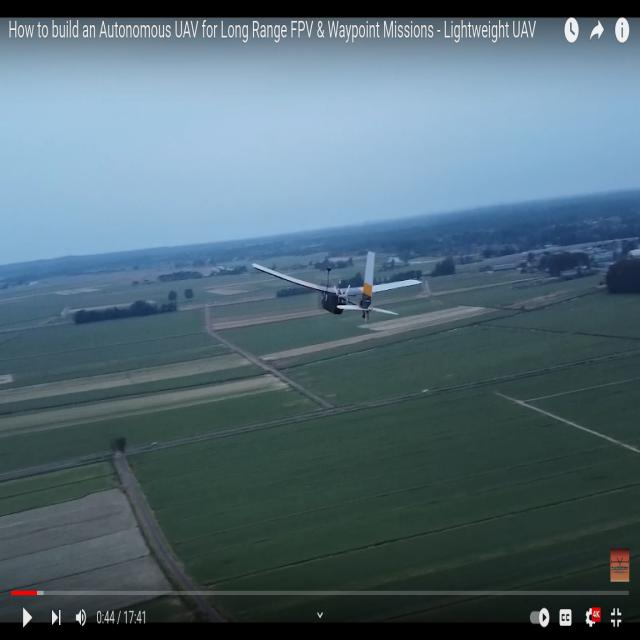drones: (244, 237, 426, 330)
